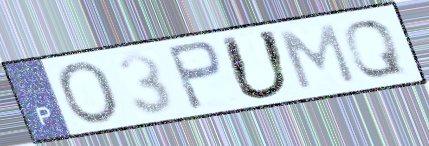3: (118, 49, 174, 119)
M: (276, 21, 359, 92)
O: (54, 58, 124, 126)
P: (163, 38, 225, 112)
Q: (342, 18, 409, 79)
U: (217, 27, 294, 102)
